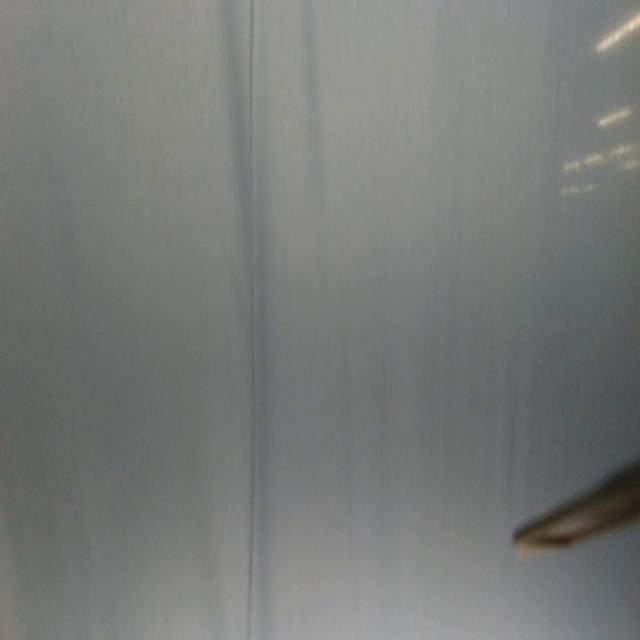crease: (244, 1, 260, 640)
